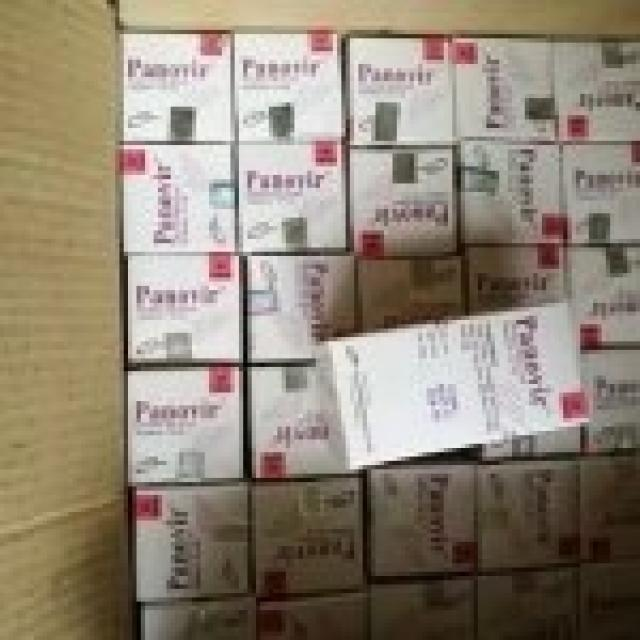box: (311, 299, 593, 469), (124, 367, 247, 486), (252, 478, 363, 602), (132, 486, 247, 602), (119, 30, 235, 141), (124, 256, 243, 363), (119, 145, 235, 252), (235, 30, 346, 141), (350, 145, 457, 256), (235, 145, 346, 252), (243, 256, 354, 363), (247, 367, 350, 478), (371, 465, 474, 576), (346, 38, 452, 145), (478, 461, 580, 572), (457, 141, 567, 243), (452, 38, 555, 141), (358, 256, 465, 333), (559, 43, 640, 141), (559, 145, 640, 243), (478, 563, 576, 640), (572, 243, 640, 350), (461, 243, 567, 311), (580, 346, 640, 457), (580, 452, 640, 563), (371, 576, 474, 640), (260, 589, 367, 640), (580, 559, 640, 640)
